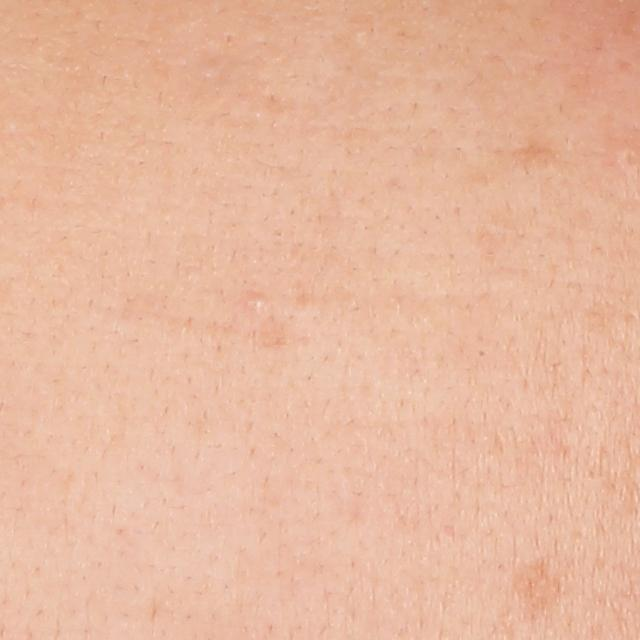comedo: (245, 289, 273, 313)
